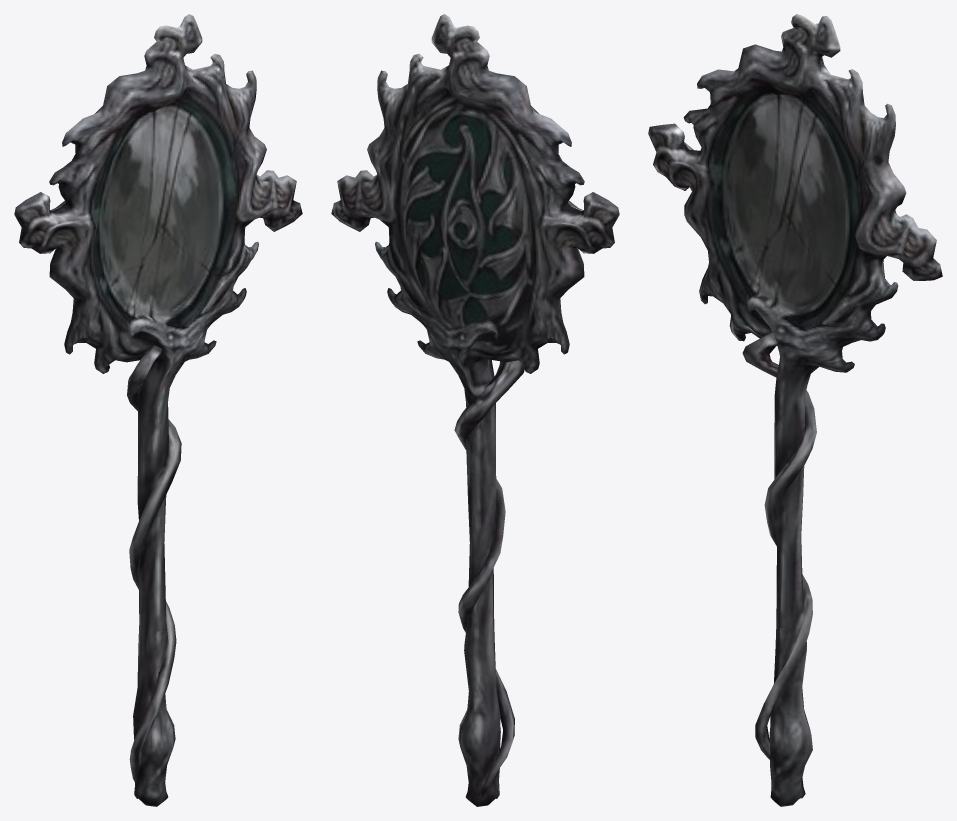
File: weapon-moon-shard.glb
The picture shows the model from 3 angles, left to right: view 1: azimuth 30°, elevation 25°; view 2: azimuth 150°, elevation 25°; view 3: azimuth 330°, elevation 25°; orthographic projection. The views are drawn at different scales.
Parts seen in each view (by area): view 1: wandB_MDL_q; view 2: wandB_MDL_q; view 3: wandB_MDL_q.
Boxes of the visible parts, bbox=[...] form: wandB_MDL_q: bbox=[14, 14, 302, 806]; wandB_MDL_q: bbox=[331, 14, 619, 806]; wandB_MDL_q: bbox=[648, 14, 942, 806].
Bounding box in the file's own units: 0.4935 × 1.27 × 0.0914.
Materials: 1 (1 with a texture image).
